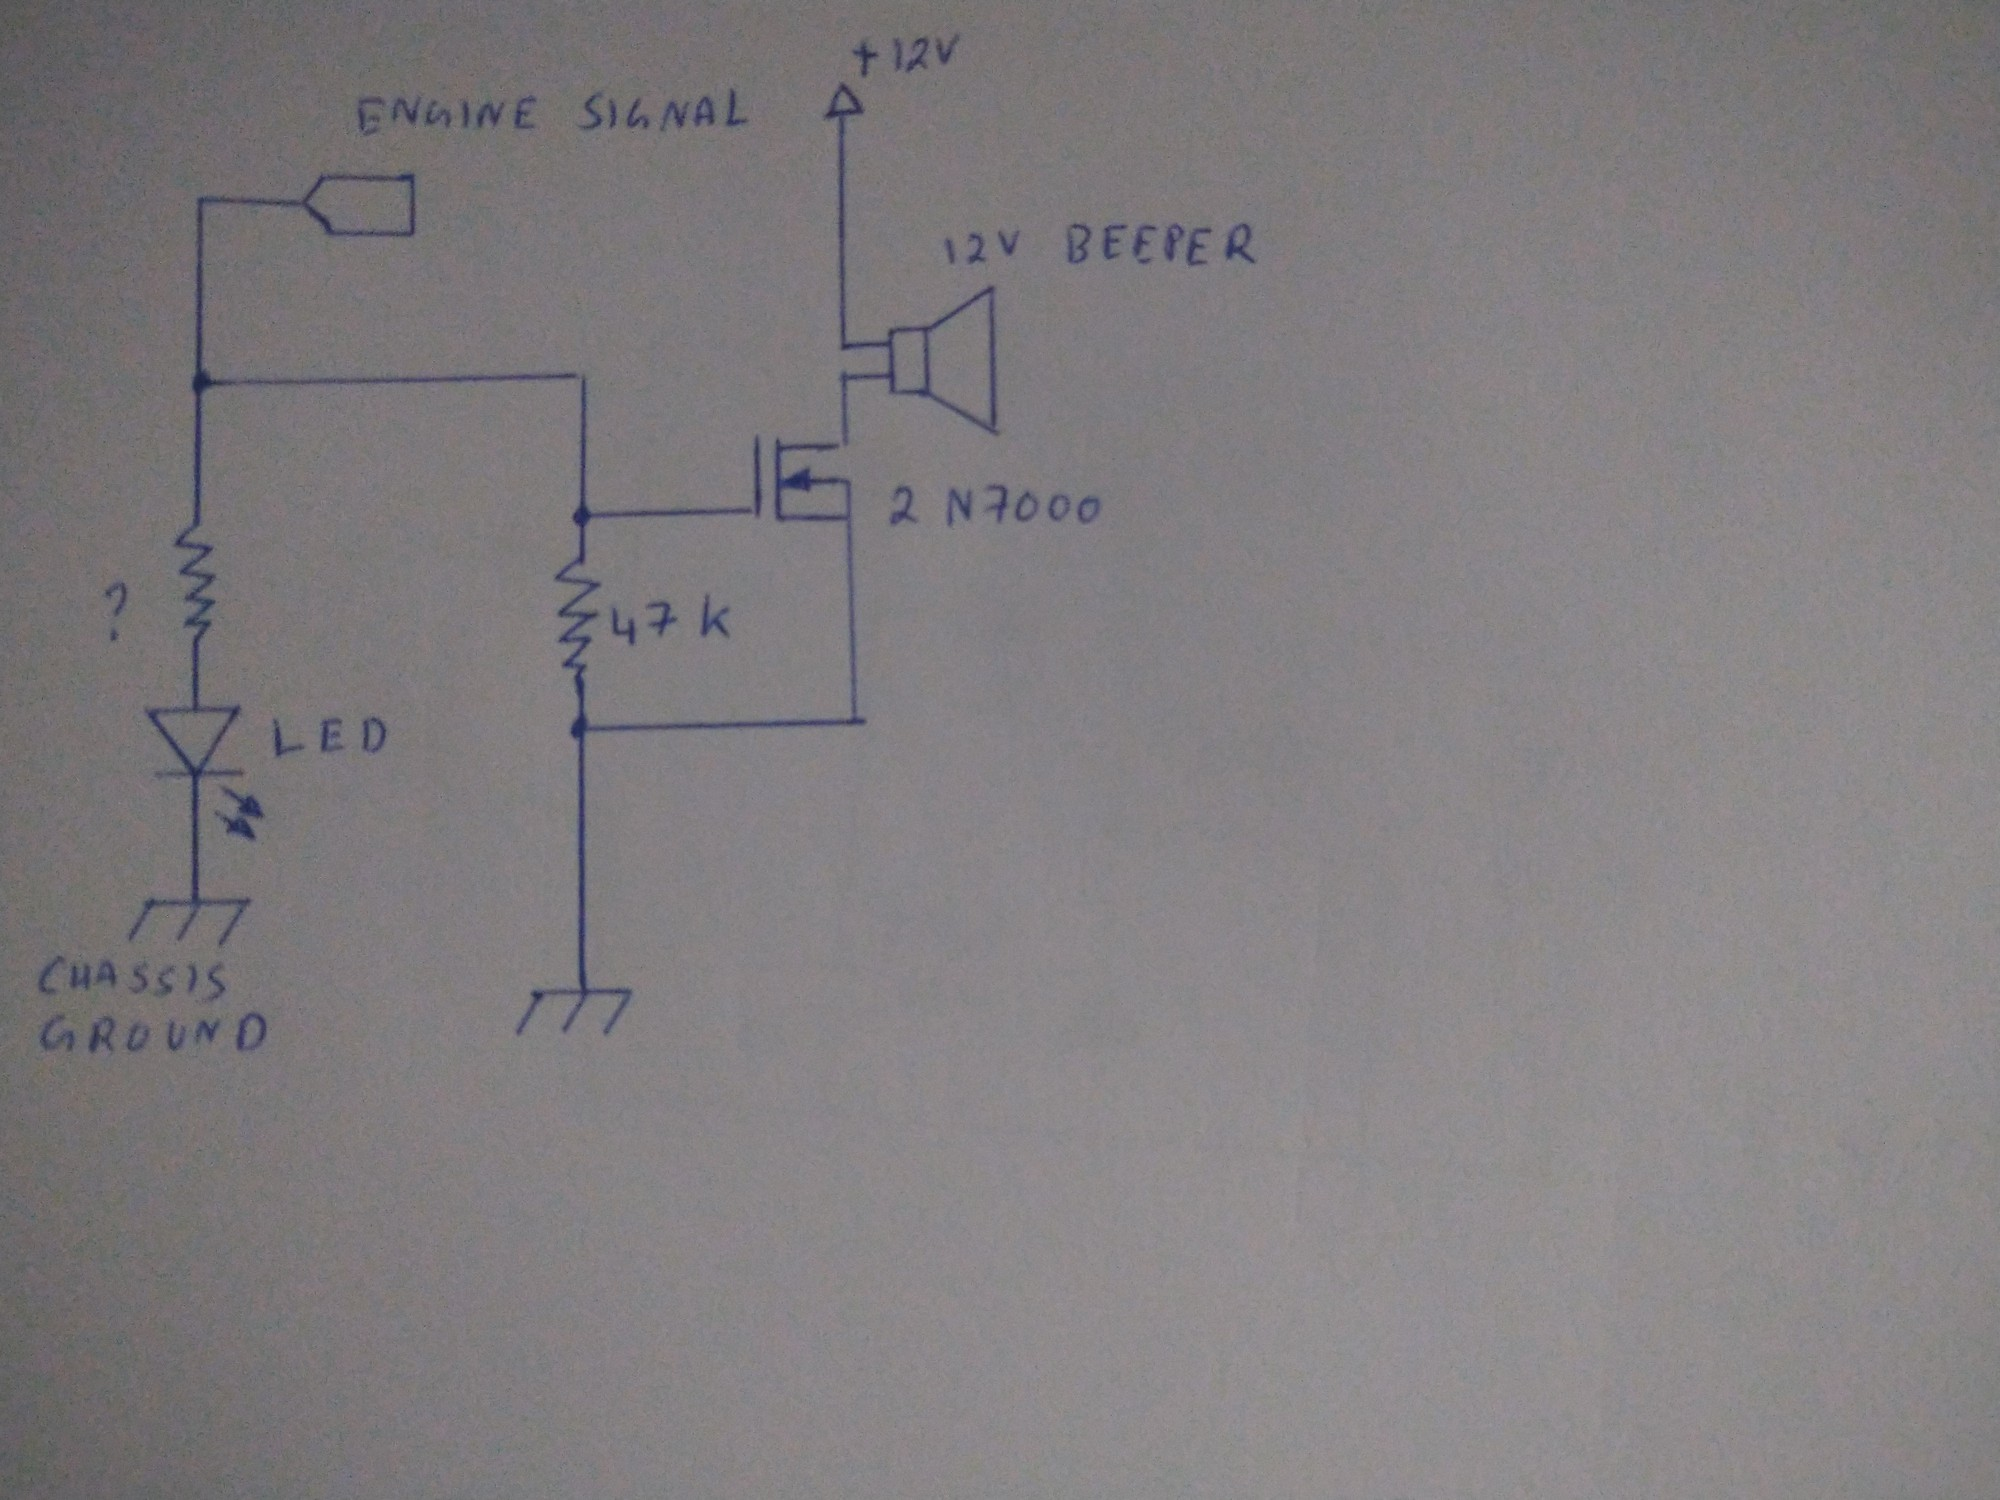diode.light_emitting: (142, 704, 268, 845)
gnd: (124, 895, 257, 952), (509, 985, 636, 1041)
junction: (184, 367, 213, 400), (565, 711, 594, 742), (569, 501, 595, 529), (844, 707, 872, 734), (572, 366, 595, 388), (833, 332, 854, 356), (191, 187, 211, 210), (835, 366, 855, 388)
resistor: (550, 558, 605, 682), (172, 520, 220, 648)
speaker: (887, 285, 1005, 440)
terminal: (301, 173, 424, 239), (820, 80, 866, 121)
text: (350, 90, 753, 136), (36, 1010, 268, 1057), (887, 482, 1104, 531), (36, 955, 228, 1005), (1065, 222, 1261, 269), (609, 592, 735, 649), (850, 28, 965, 79), (271, 714, 391, 758), (943, 225, 1027, 269), (102, 581, 132, 640)
transistor: (746, 433, 857, 526)
